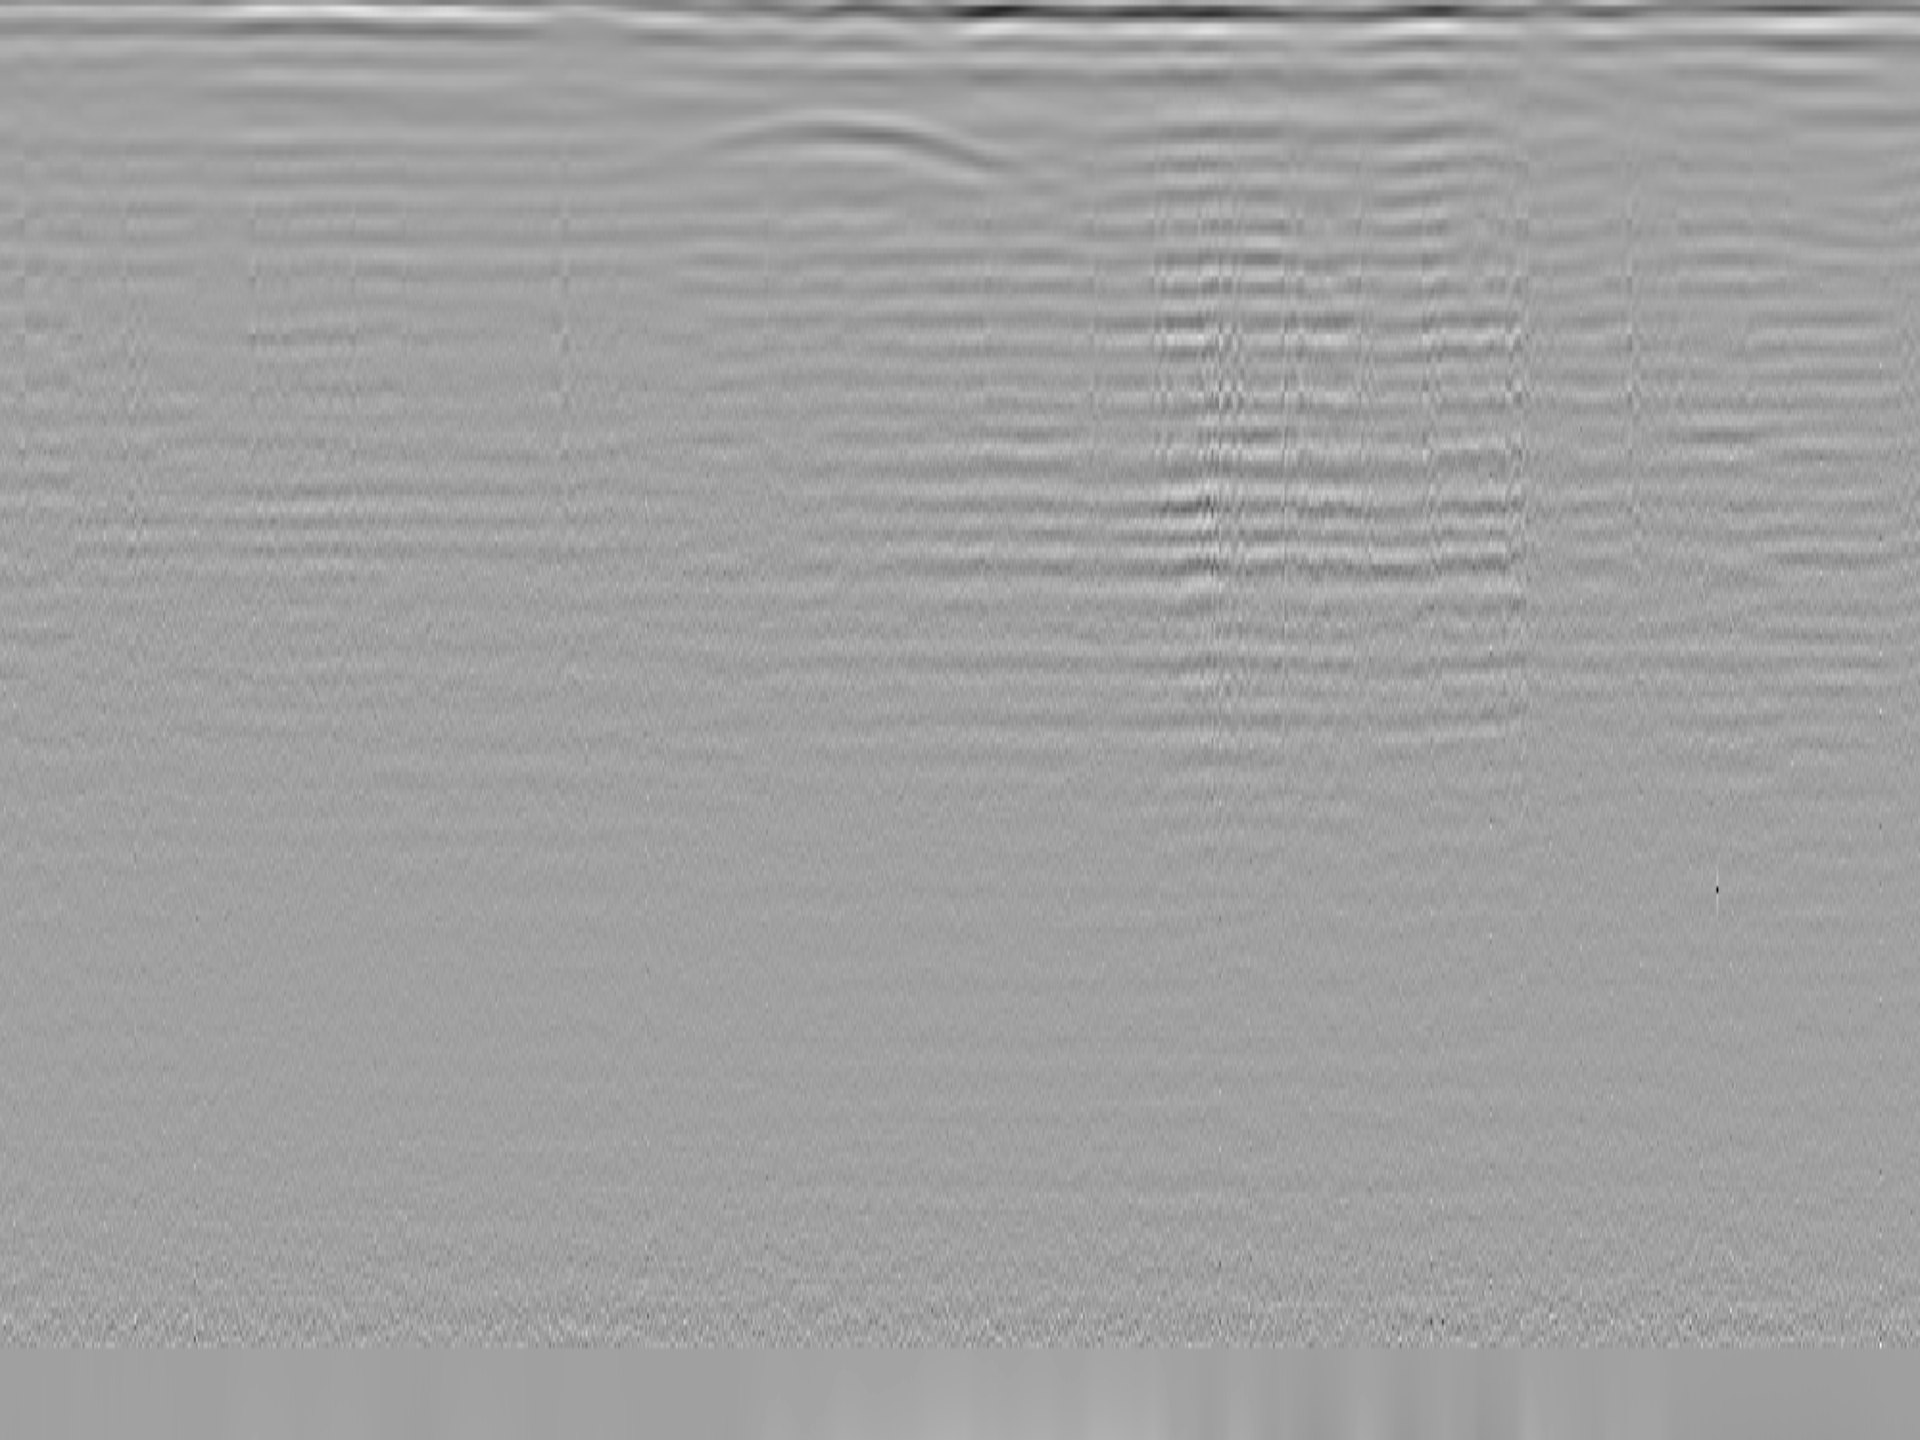Tunnel: (556, 106, 1095, 194)
